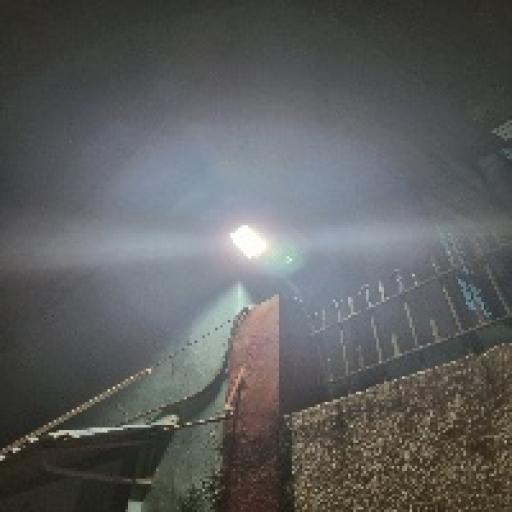Working: (223, 215, 272, 267)
